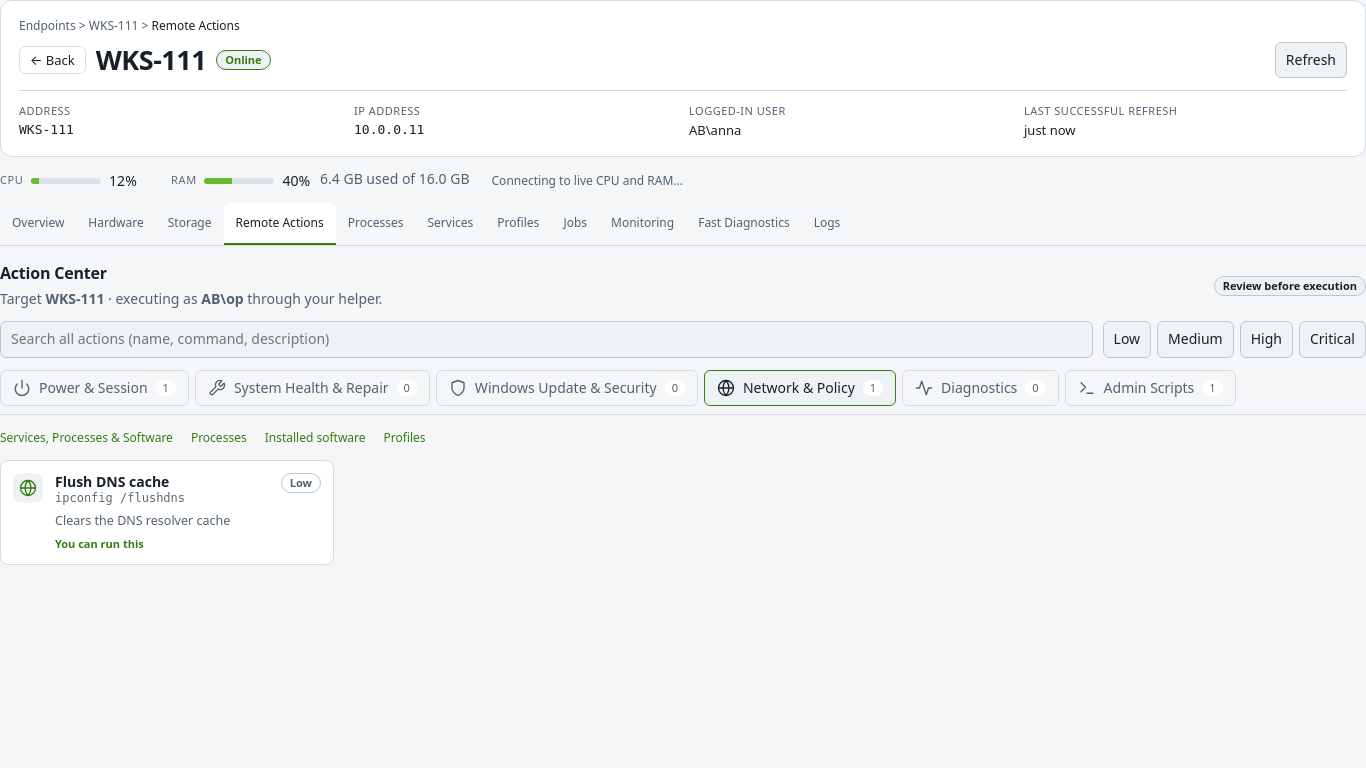
Test: job navigation › workstation -> Remote Actions -> run: the output opens in place; Open job -> job page; Back returns to the workstation page
Click the button with aria-label "Run Flush DNS cache". click: point(167, 513)
box: 0,460 -> 334,565
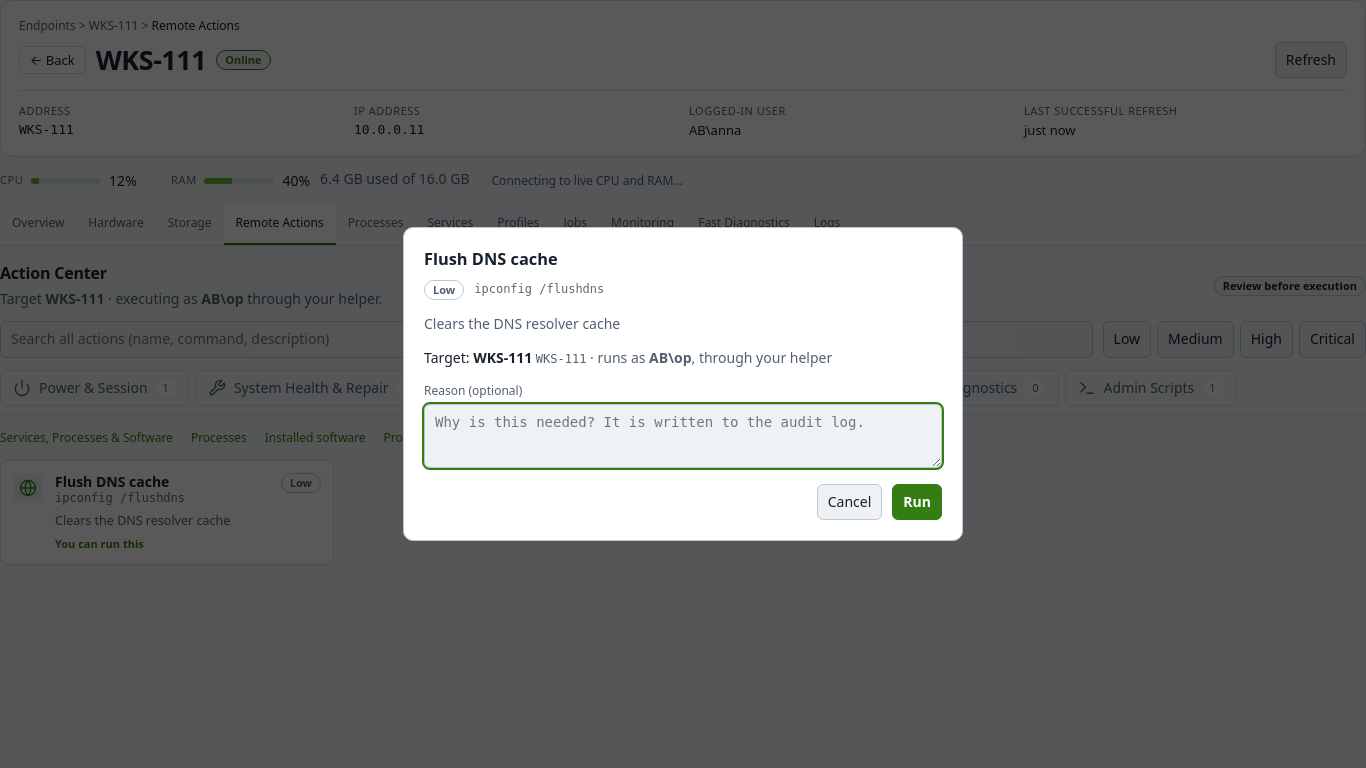
Click the button "Run". click: point(917, 502)
box: 892,484 -> 942,520
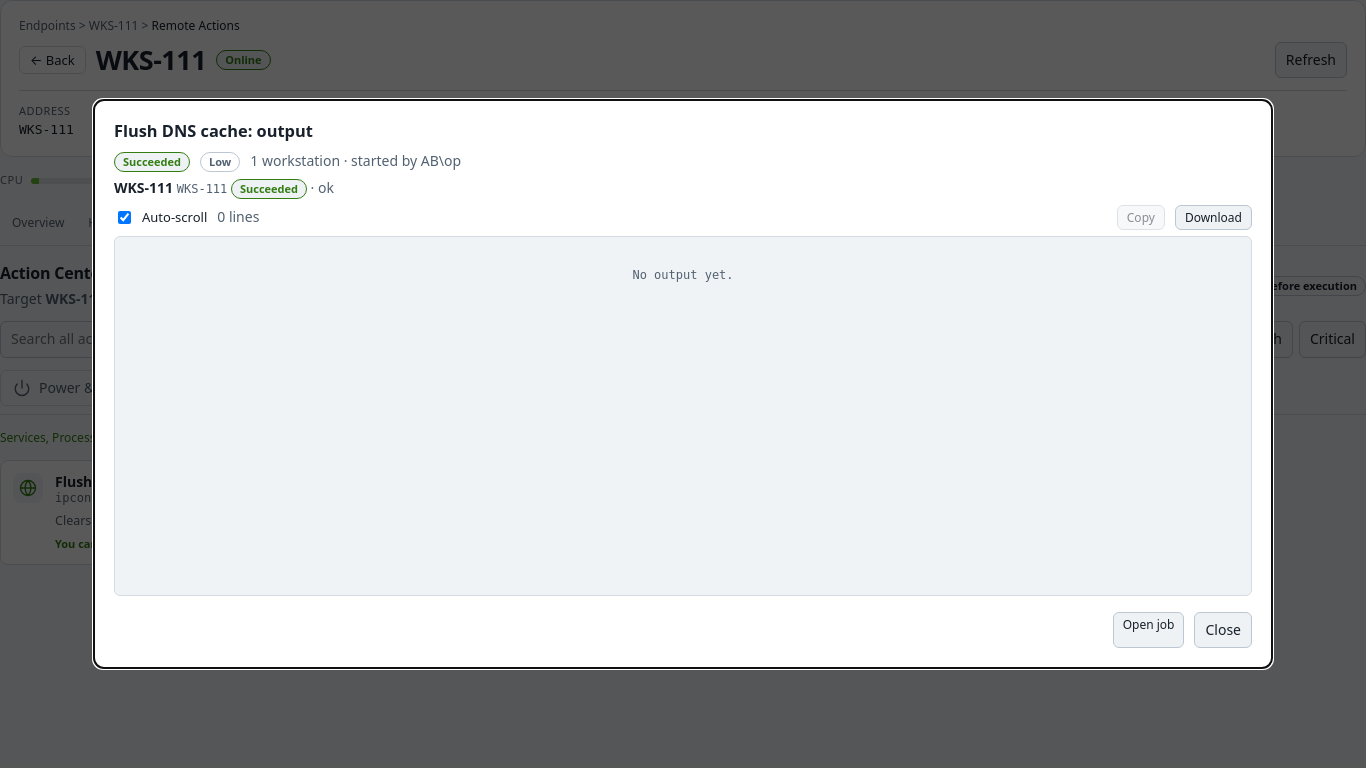
Click the link "Open job". click: point(1149, 630)
box: 1113,612 -> 1184,648
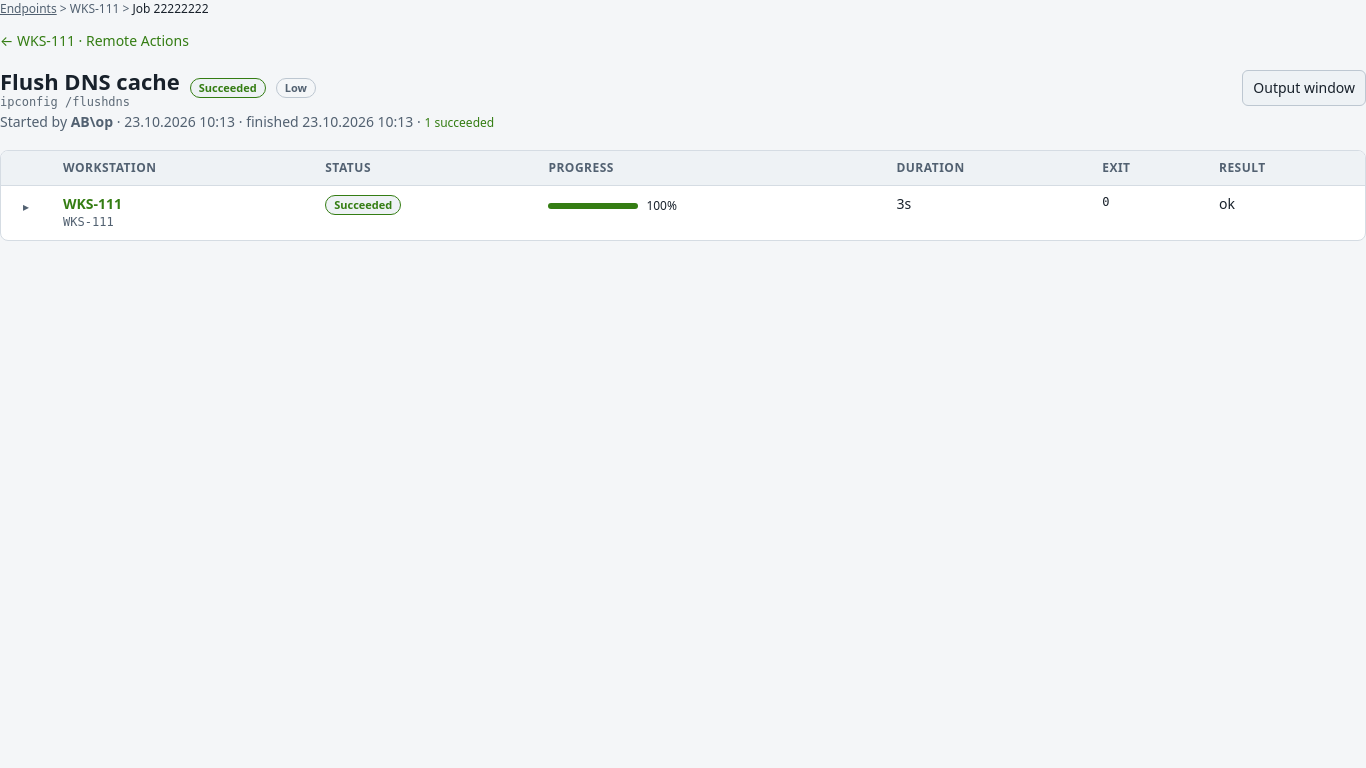
Click the link with test id "job-back". click: point(8, 41)
box: 0,31 -> 189,50
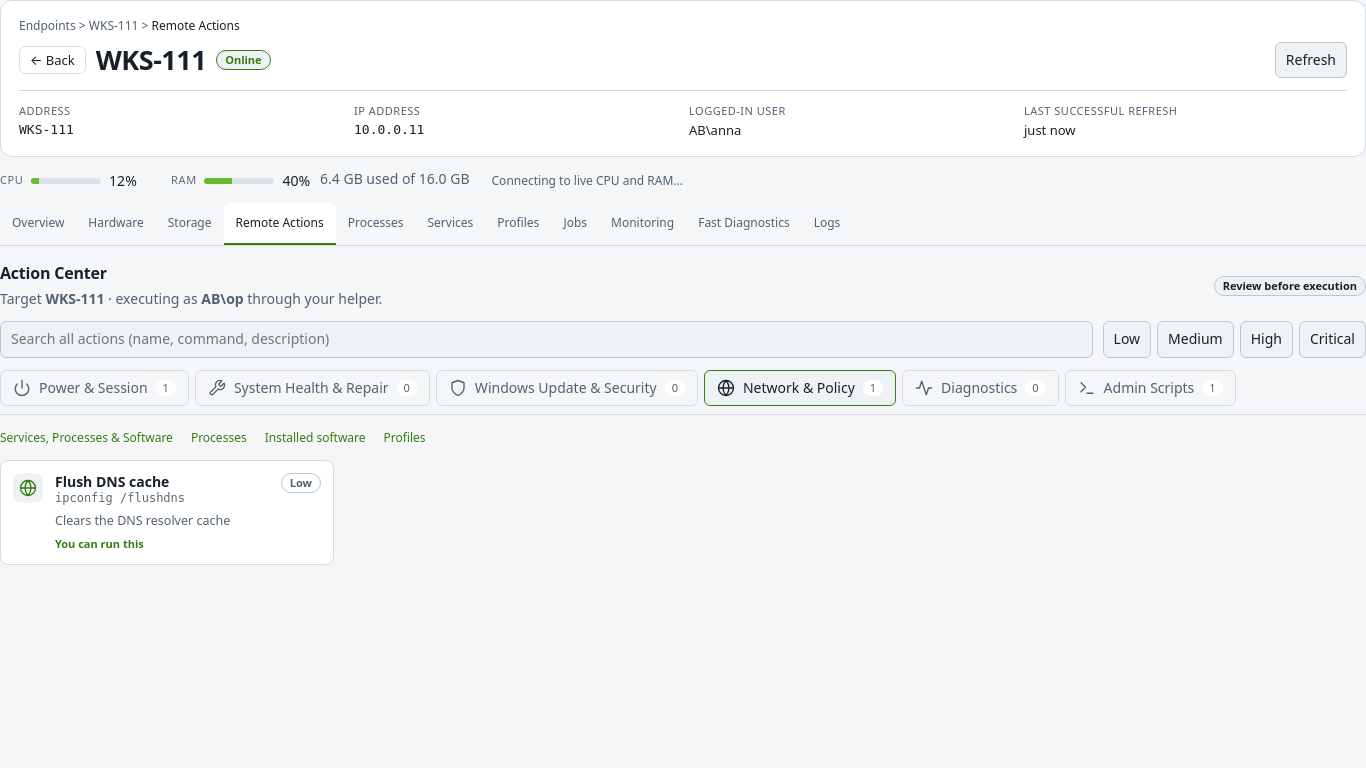
Now the heading "WKS-111" is shown, box 96,40 -> 206,80
